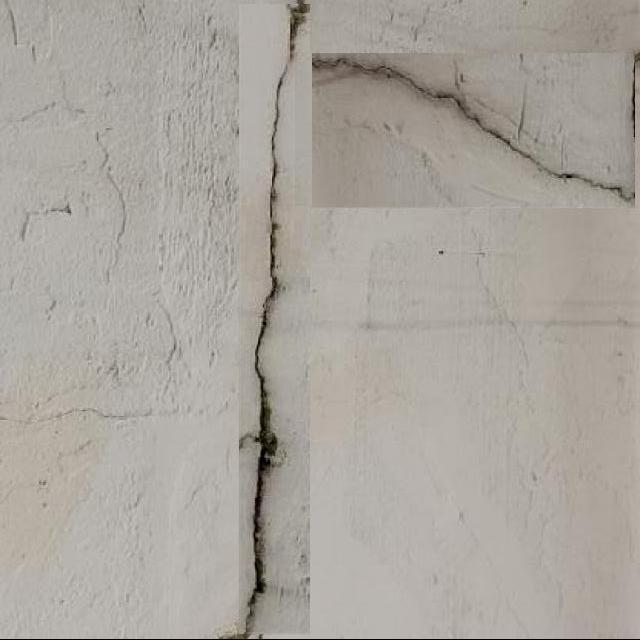crack: (241, 1, 304, 636), (0, 388, 199, 429)
dampens: (245, 429, 275, 623)
